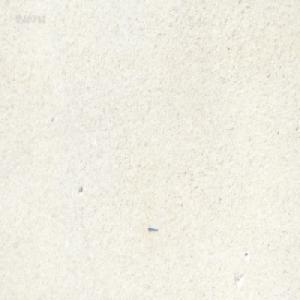Nail: (148, 225, 158, 233)
